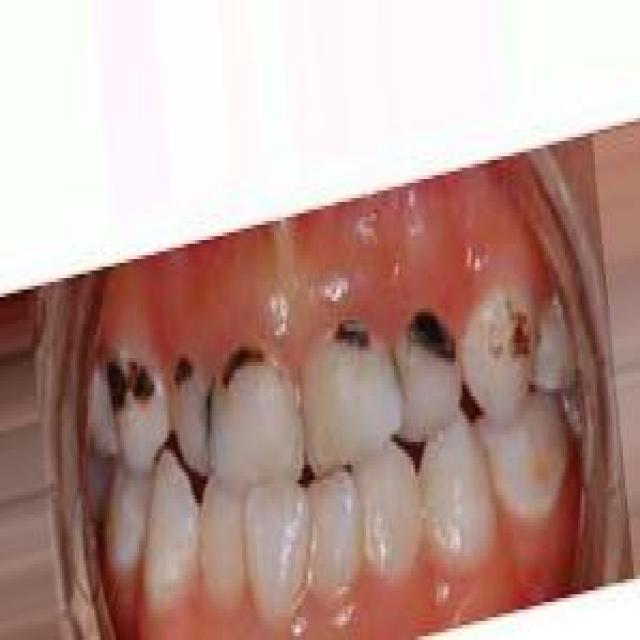caries: (162, 340, 216, 471), (400, 294, 466, 394), (107, 345, 162, 453), (214, 329, 264, 412), (333, 301, 379, 374)
